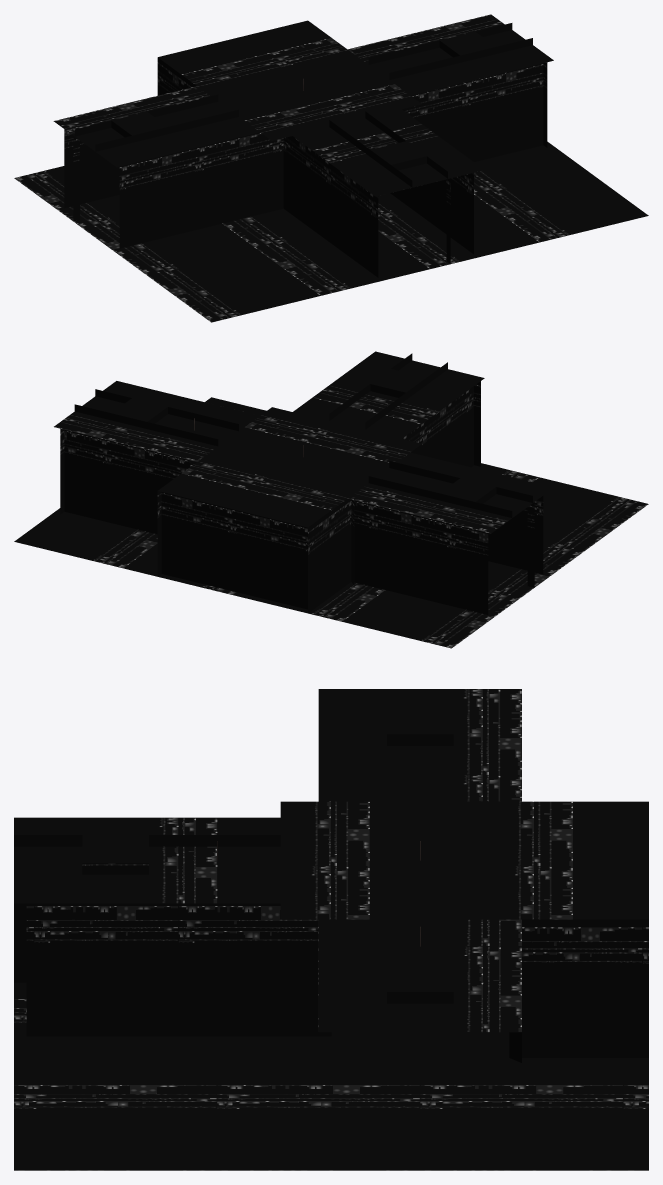
File: room3z3_opt.obj
3 renders of one model, top to bottom at view 1: azimuth 30°, elevation 25°; view 2: azimuth 150°, elevation 25°; view 3: azimuth 270°, elevation 25°, orthographic. The views are drawn at different scales.
Size of the model in its own units: 2048 by 439 by 1600.
